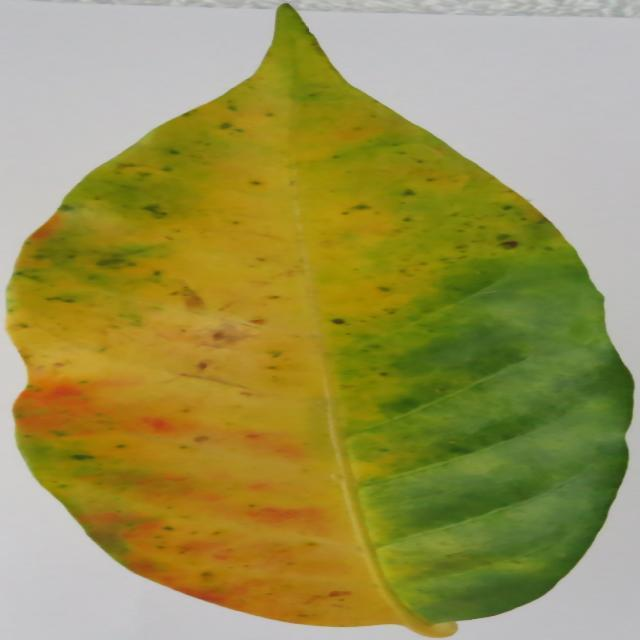DeficienciaNutricional-Fosforo: (9, 5, 633, 637)
